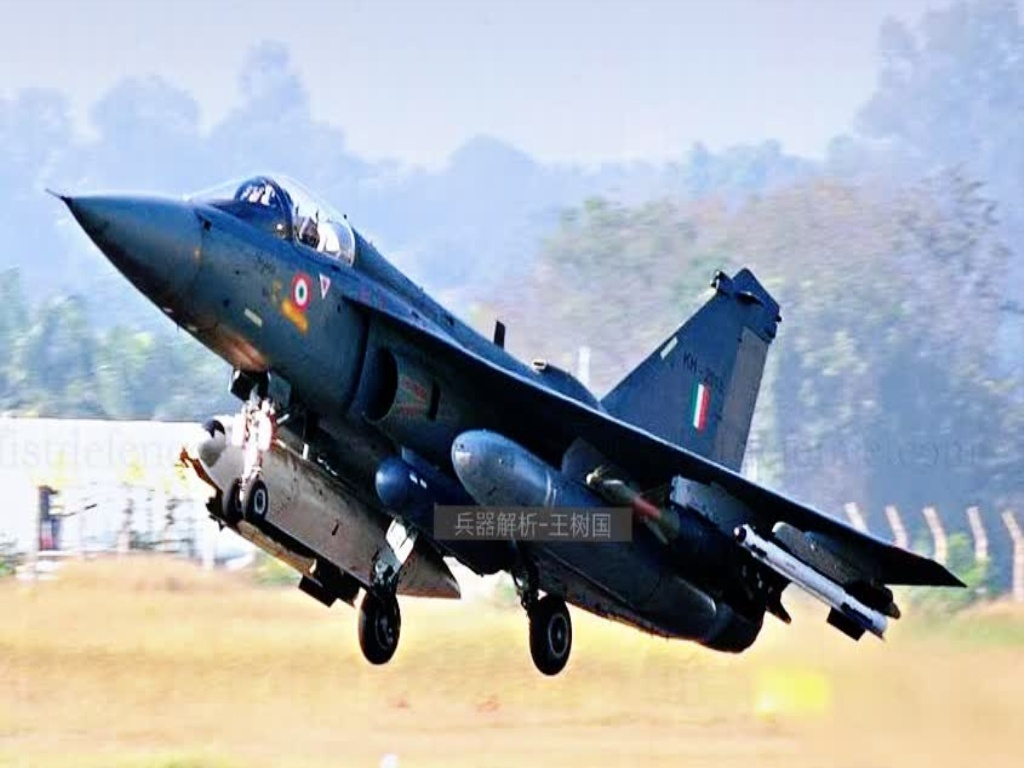airplane: (19, 153, 974, 658)
